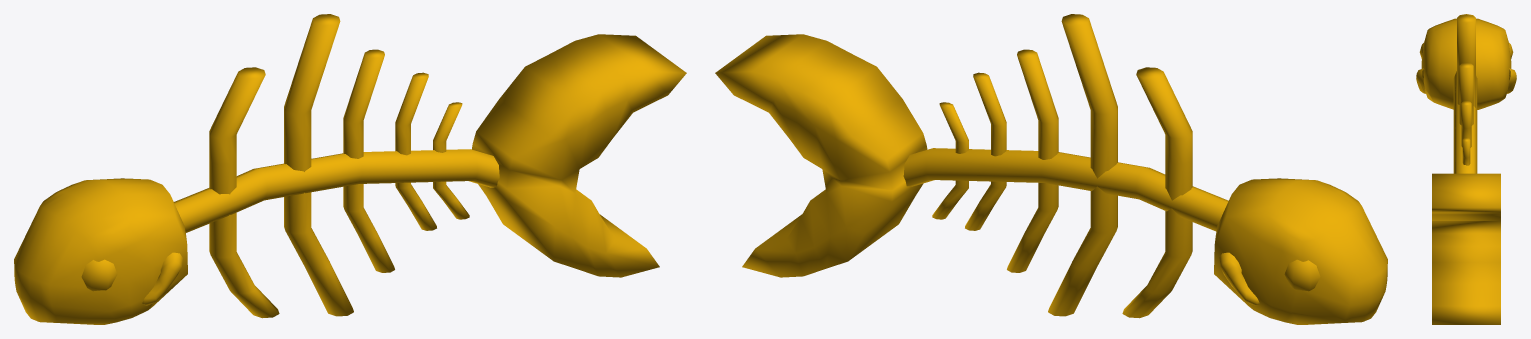
The model's file is PeixeMoeda.fbx.
The picture shows the model from 3 angles, left to right: view 1: azimuth 30°, elevation 25°; view 2: azimuth 150°, elevation 25°; view 3: azimuth 270°, elevation 25°; orthographic projection. The views are drawn at different scales.
Parts seen in each view (by area): view 1: PeideMoeda; view 2: PeideMoeda; view 3: PeideMoeda.
Boxes of the visible parts, x1=… form: PeideMoeda: x1=14, y1=14, x2=686, y2=324; PeideMoeda: x1=715, y1=14, x2=1387, y2=324; PeideMoeda: x1=1416, y1=14, x2=1516, y2=324.
Bounding box in the file's own units: 256 × 116 × 51.72.
